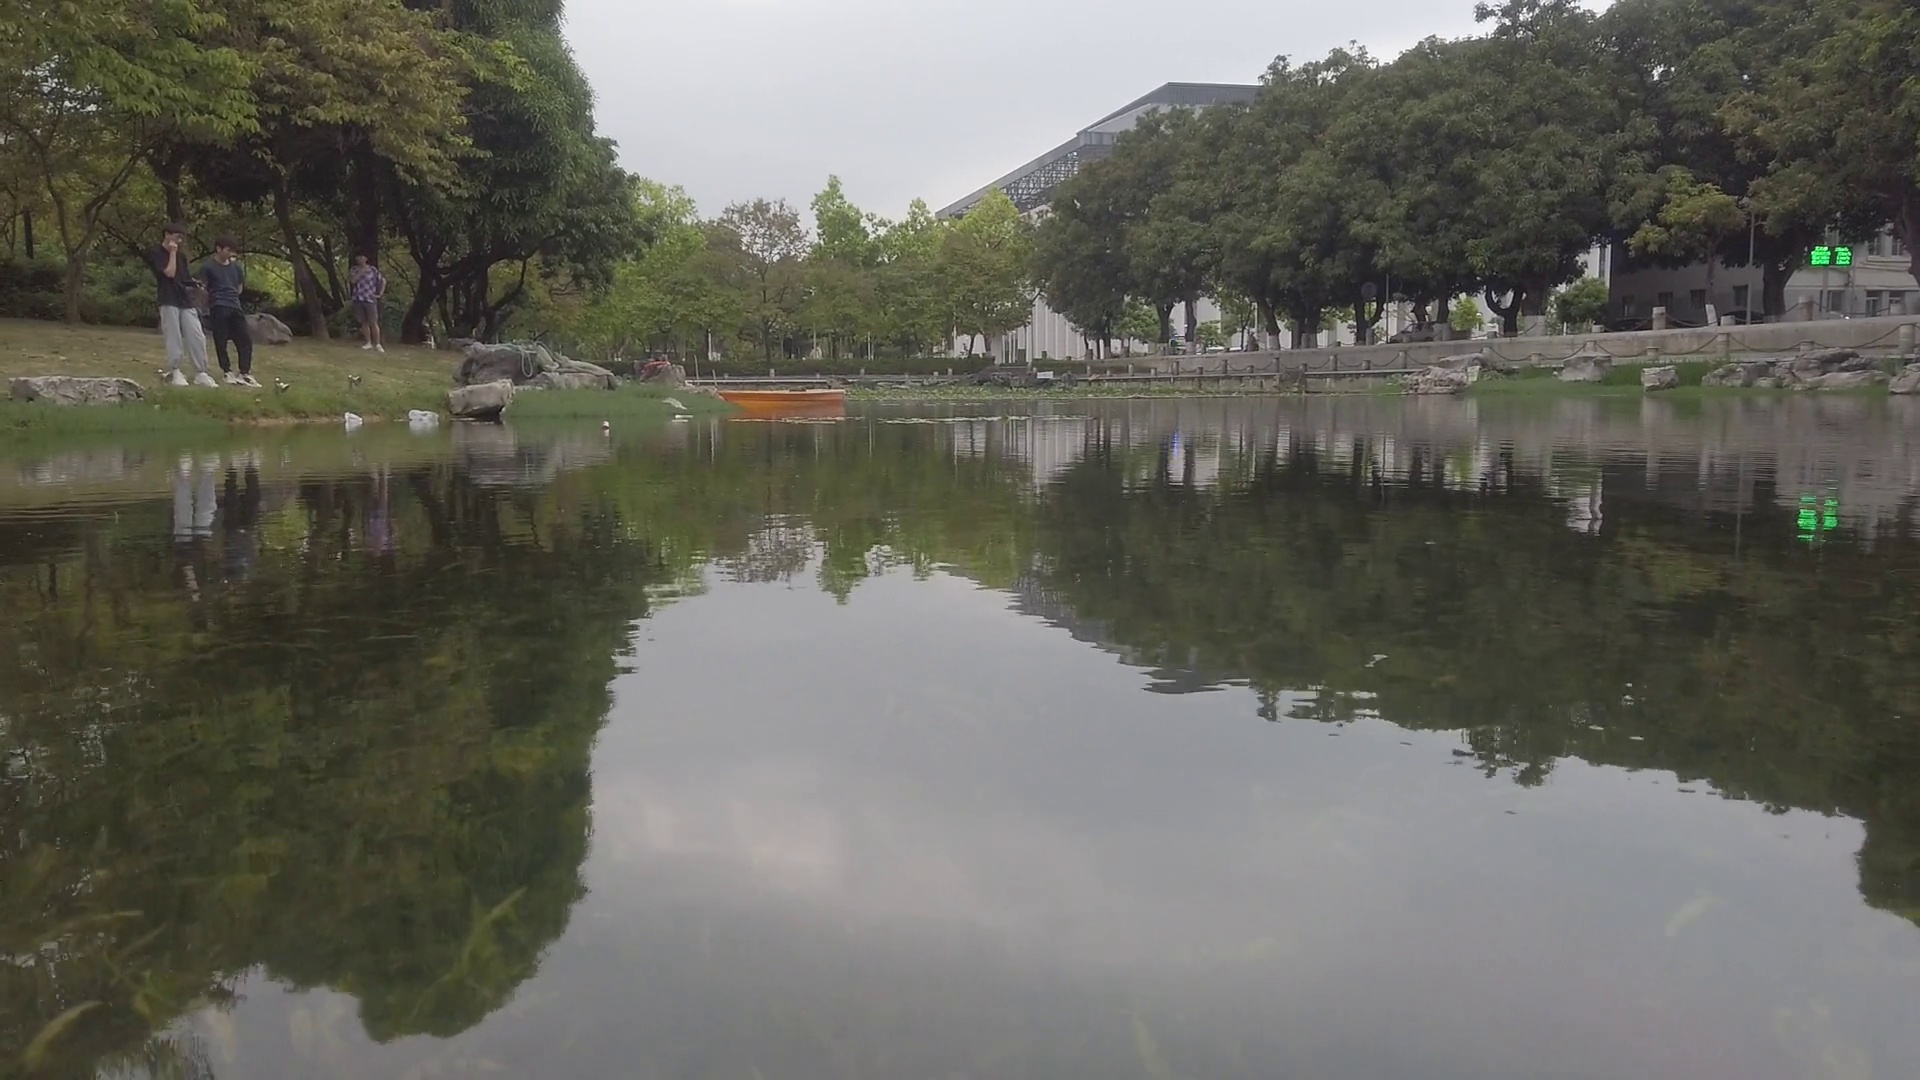bottle: (603, 422, 608, 427)
plastic: (407, 407, 438, 425), (344, 411, 363, 425)
